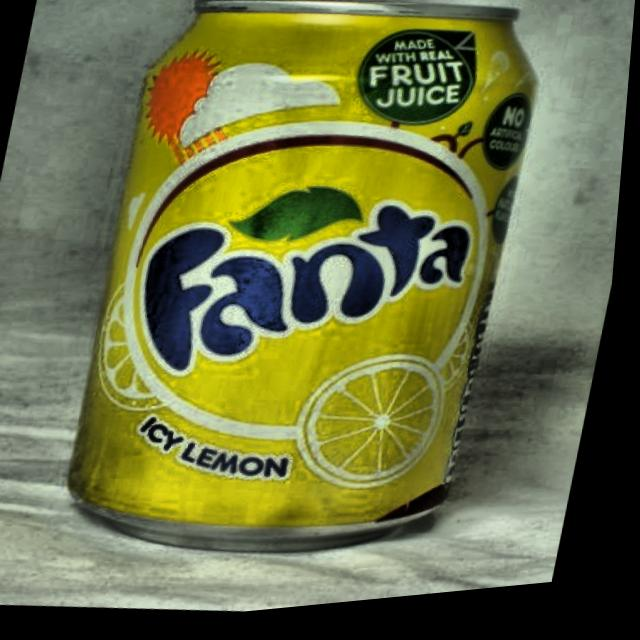Cans: (58, 0, 553, 630)
